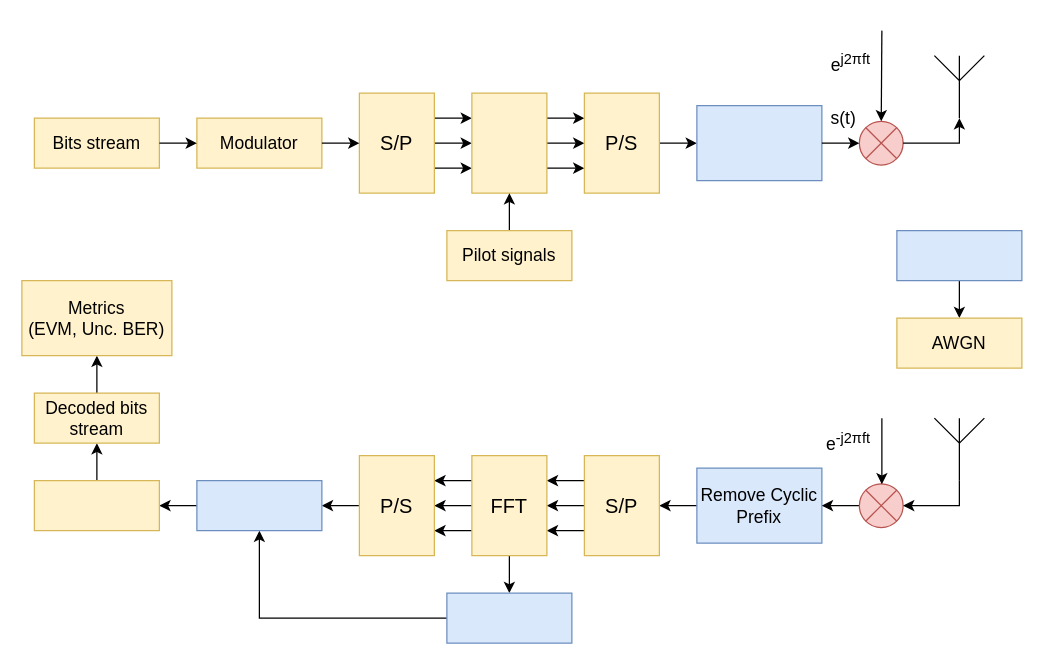
The diagram is 1044 pixels wide and 665 high, and some of its shapes have lost their labels. The shapes that lost their labels are listed below. From the top down, each one's centre as x and y in pixels, then its label:
(x=509, y=142): IFFT
(x=759, y=142): Add Cyclic Prefix
(x=959, y=255): Channel
(x=96, y=505): Demodulator
(x=259, y=505): Equalizer
(x=509, y=617): Remove pilot signals
